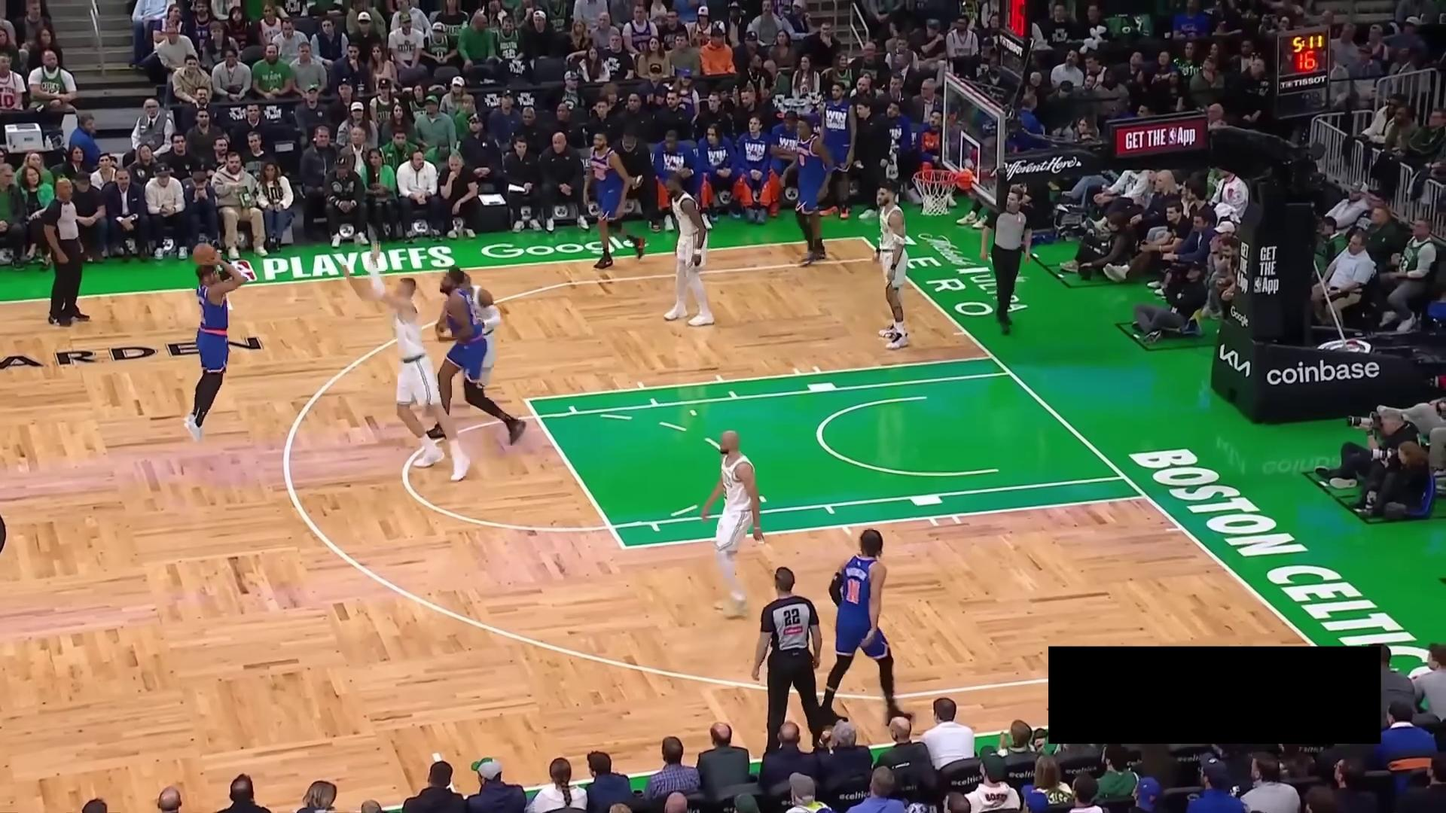ball: (193, 242, 217, 266)
number: (845, 577, 861, 606), (798, 153, 805, 166)
player: (341, 248, 471, 483), (820, 528, 916, 729), (423, 263, 527, 447), (700, 429, 766, 620), (583, 130, 646, 270), (779, 115, 836, 267), (660, 173, 715, 327), (871, 180, 912, 351), (461, 271, 501, 387)
player-jump-shot: (182, 240, 247, 444)
referee: (751, 566, 824, 754), (980, 184, 1034, 335), (41, 177, 95, 327)
rim: (911, 169, 959, 185)
